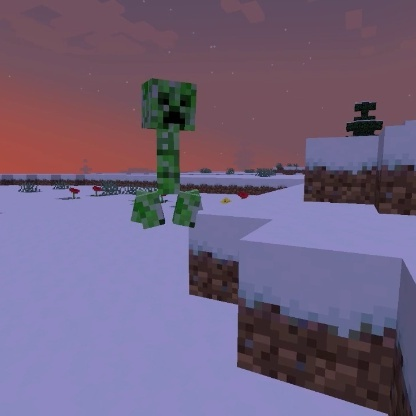creeper: (127, 76, 206, 232)
